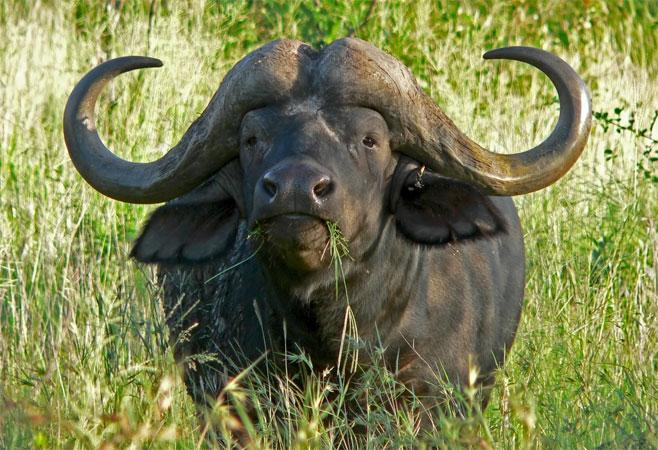Buffalo: (51, 20, 655, 431)
